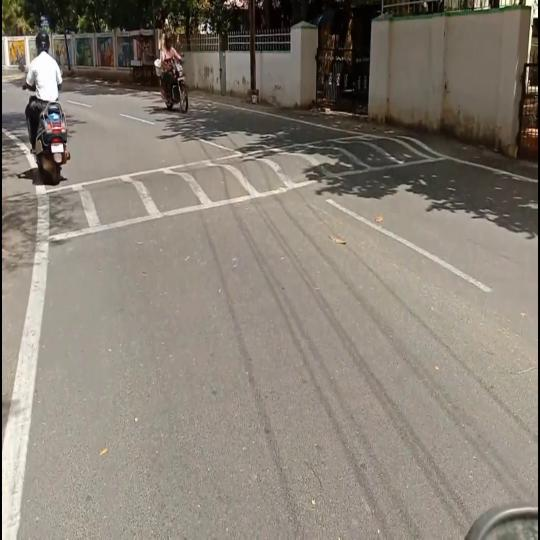Speed Bump: (71, 136, 436, 234), (2, 187, 71, 251)
